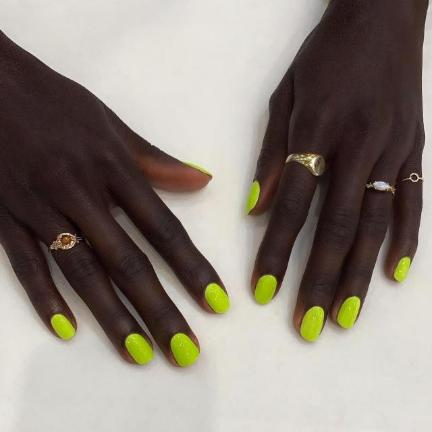Nail: (170, 333, 199, 367), (300, 306, 325, 341), (125, 334, 153, 364), (337, 296, 361, 328), (204, 284, 230, 313), (254, 274, 278, 305), (51, 314, 75, 340), (393, 256, 411, 281), (248, 181, 260, 214)
